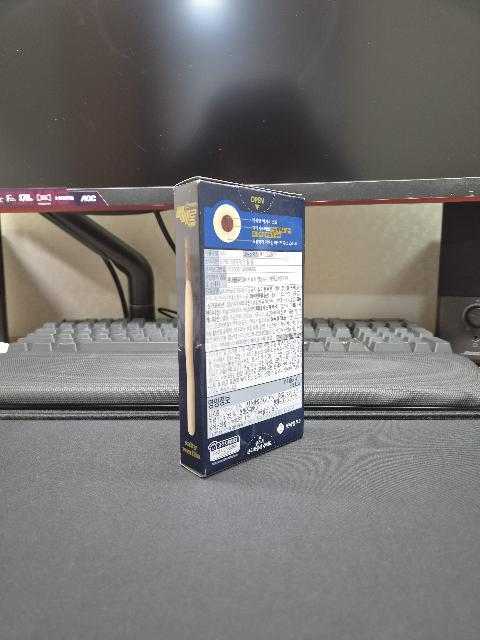pepero: (173, 176, 306, 477)
